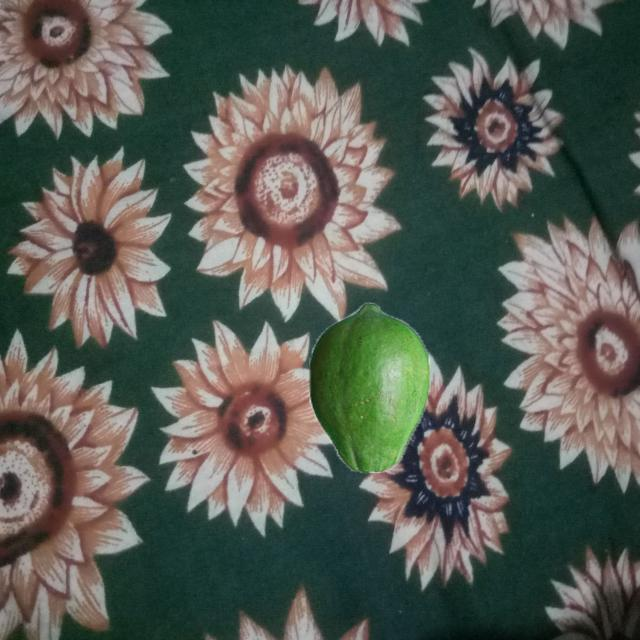Pepaya unrippen: (300, 289, 435, 478)
